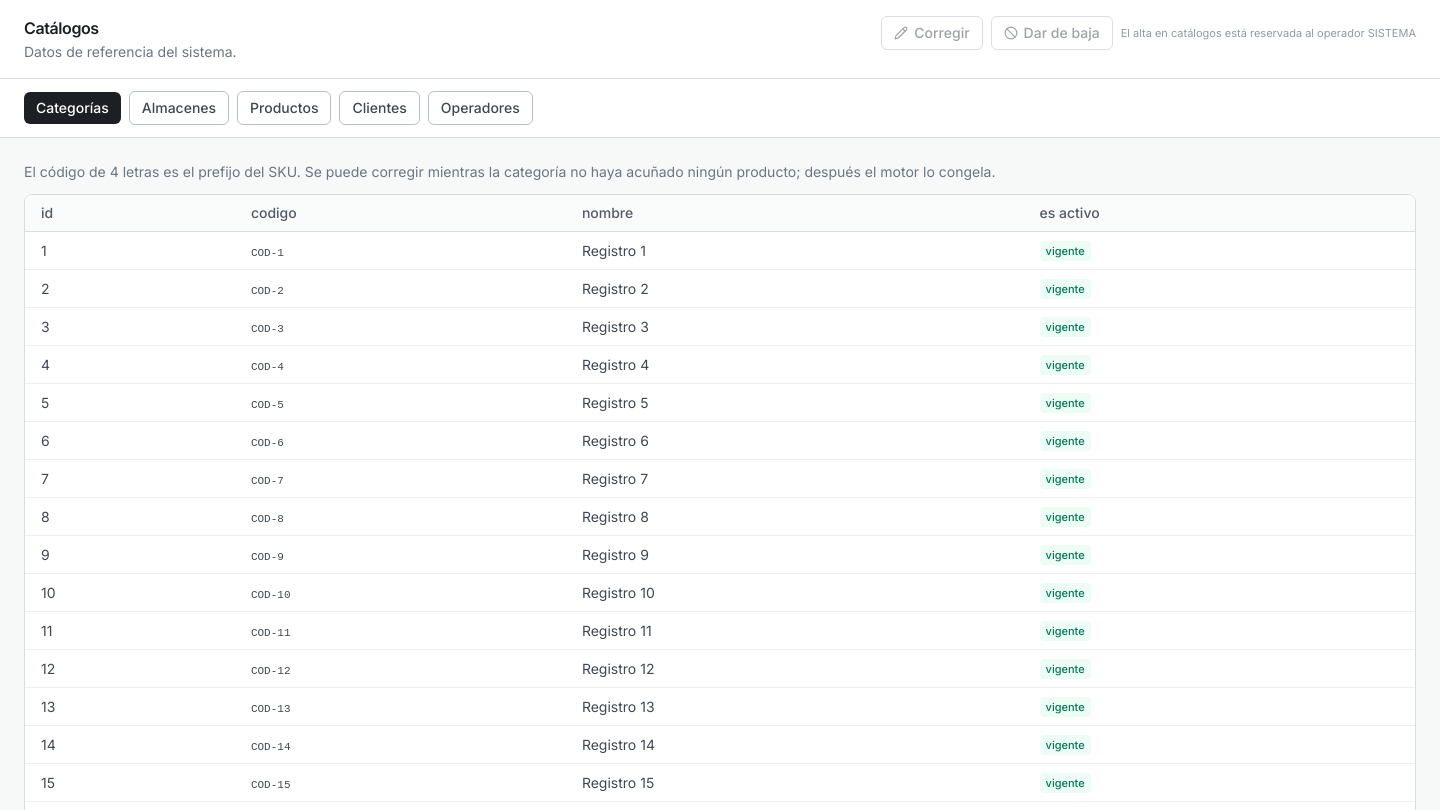
Test case: Catalogos - corregir un registro › sin cambios el boton de guardar no se habilita
Click the text "Registro 1" at point(614, 250), box x1=566 y1=232 x2=1024 y2=270
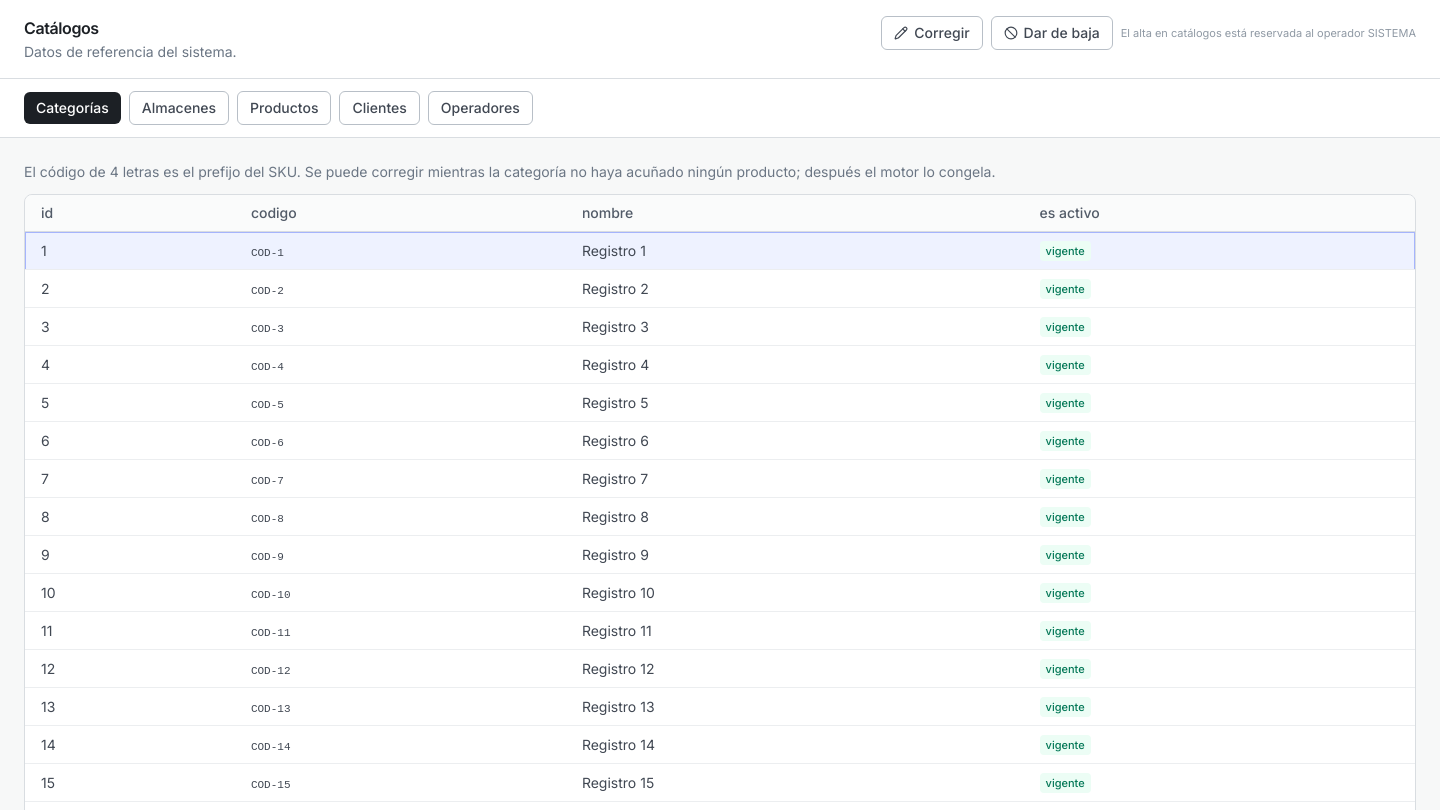
Click the button "Corregir" at point(932, 33), box x1=881 y1=16 x2=983 y2=50
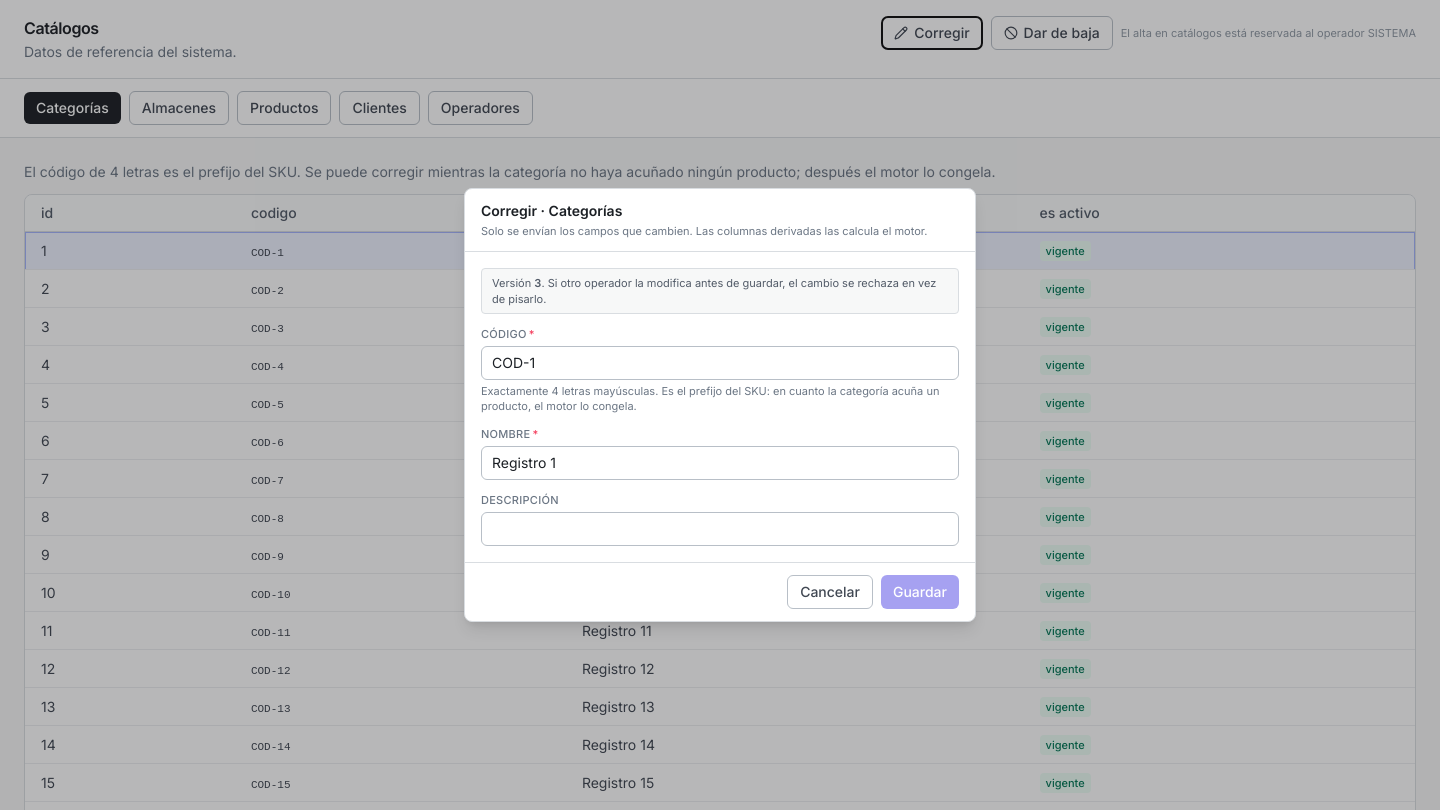
Check: the button "Guardar" is disabled, box x1=881 y1=575 x2=959 y2=609
